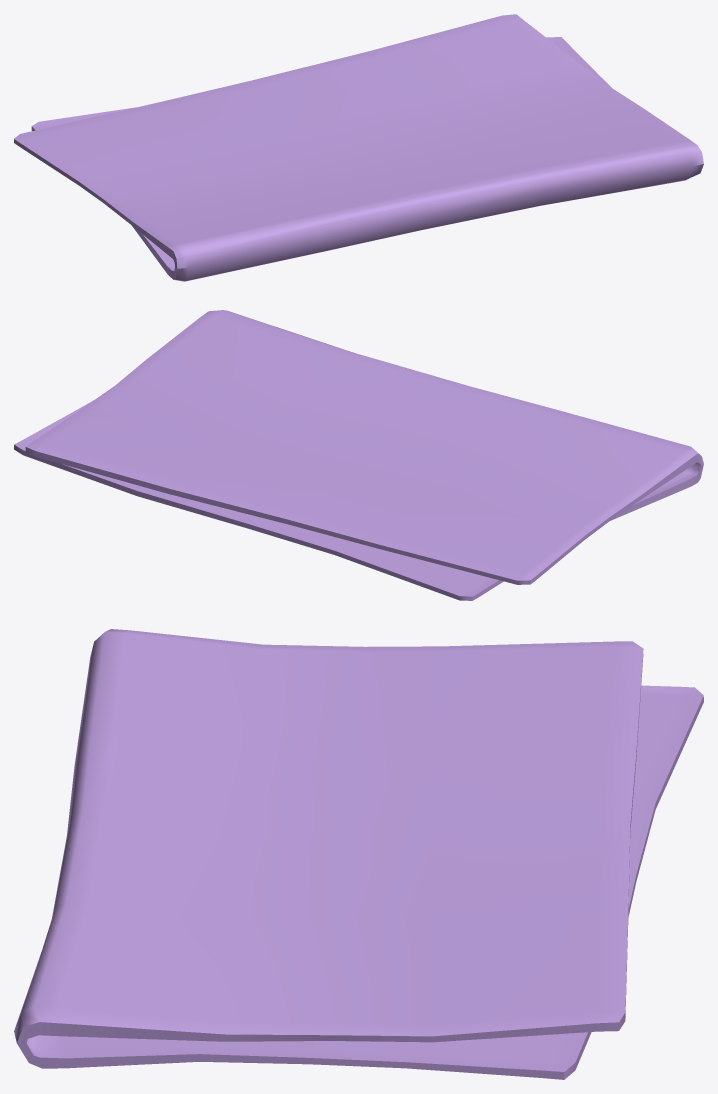
The model's file is Friday_Newspaper.fbx.
3 views of the same model, one above another, from view 1: azimuth 30°, elevation 25°; view 2: azimuth 150°, elevation 25°; view 3: azimuth 270°, elevation 25° (orthographic). The views are drawn at different scales.
Parts seen in each view (by area): view 1: Newspaper; view 2: Newspaper; view 3: Newspaper.
Part boxes in pixels (left/top/right/bottom): Newspaper: left=14, top=14, right=703, bottom=281; Newspaper: left=14, top=310, right=703, bottom=600; Newspaper: left=14, top=629, right=703, bottom=1079.
Bounding box in the file's own units: 135 × 8.49 × 94.63.
